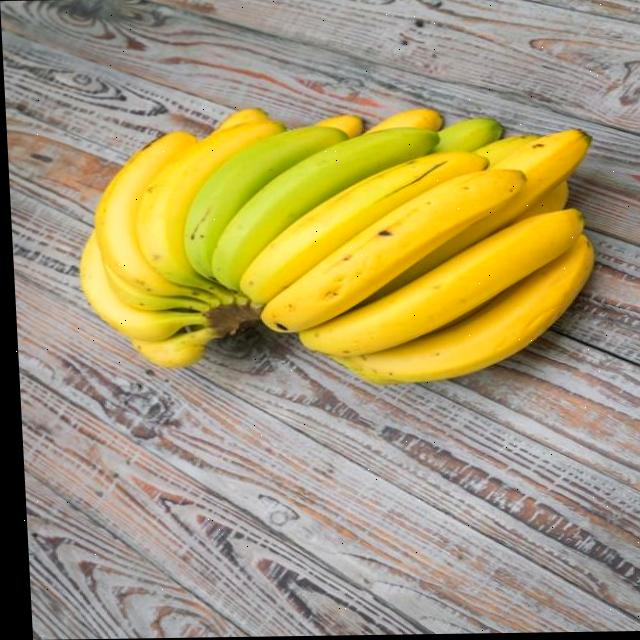banana: (63, 100, 609, 393)
